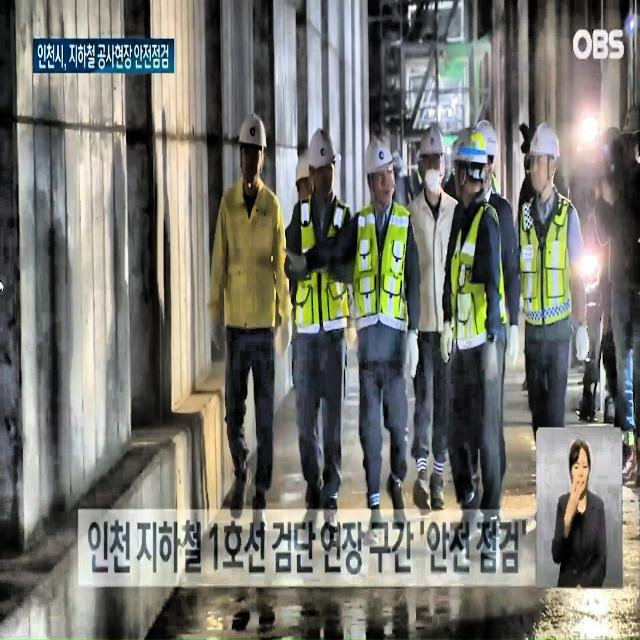safety_helmet: (238, 111, 276, 167), (522, 119, 562, 158), (304, 128, 338, 172), (452, 120, 486, 162), (362, 139, 396, 180), (418, 117, 447, 162)
safety_jacket: (355, 206, 413, 348), (294, 194, 347, 347), (451, 221, 505, 360), (522, 205, 578, 337)
